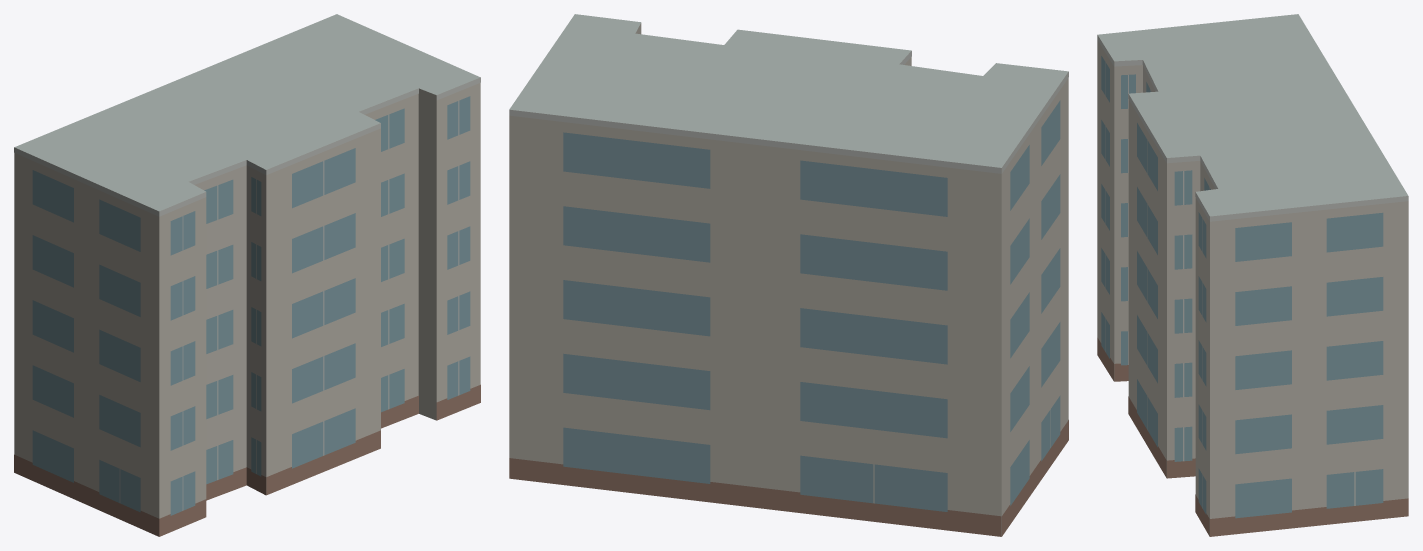
Rendered from survey-upis-32477255.glb.
The picture shows the model from 3 angles, left to right: view 1: azimuth 30°, elevation 25°; view 2: azimuth 150°, elevation 25°; view 3: azimuth 270°, elevation 25°; orthographic projection. The views are drawn at different scales.
Visible parts, largest first — view 1: survey-upis-32477255.tmp; view 2: survey-upis-32477255.tmp; view 3: survey-upis-32477255.tmp.
Boxes of the visible parts, bbox=[...] form: survey-upis-32477255.tmp: bbox=[14, 14, 480, 536]; survey-upis-32477255.tmp: bbox=[509, 14, 1068, 536]; survey-upis-32477255.tmp: bbox=[1097, 14, 1408, 536].
Size of the model in its own units: 20.41 by 15.05 by 13.26.
